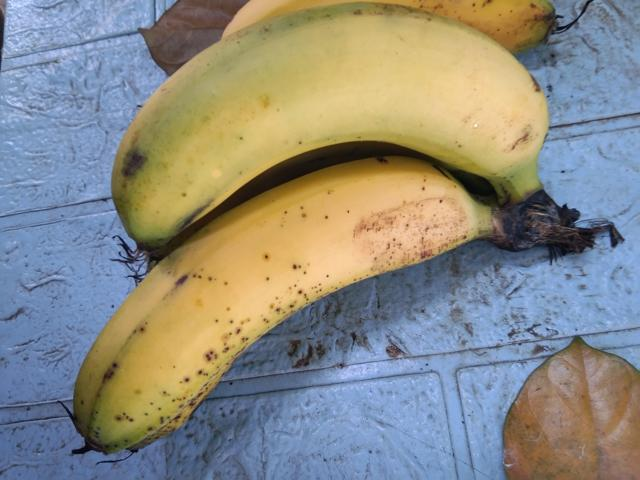freshripe: (106, 0, 546, 214)
ripe: (73, 142, 479, 479)
